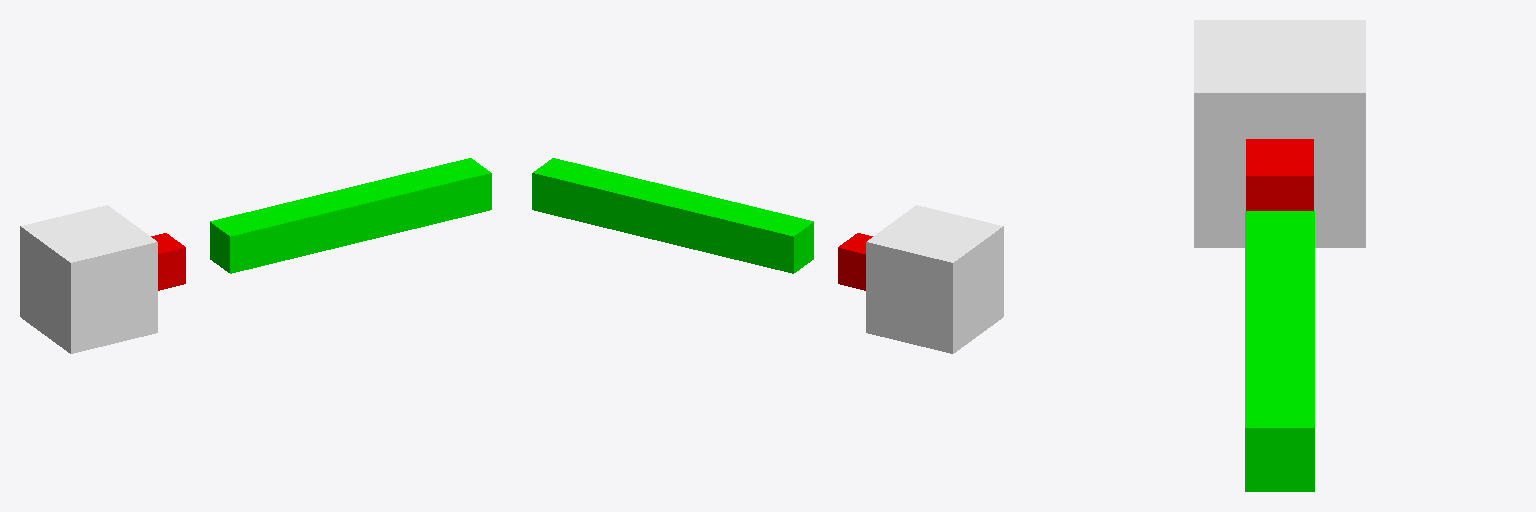
The robot description file, URDF, robot "horizontal_pendulum":
<robot name="horizontal_pendulum">

    <link name="base_link">
        <inertial>
            <origin rpy="0 0 0" xyz="0 0 0"/>
            <mass value="100.0"/>
            <inertia ixx="1" ixy="0" ixz="0" iyy="1" iyz="0" izz="1"/>
        </inertial>
        <visual>
            <origin rpy="0 0 0" xyz="0 0 0"/>
            <geometry>
                <box size="1 1 1"/>
            </geometry>
            <material>
                <color rgba="1 1 1 1"/>
            </material>
        </visual>
        <collision>
            <origin rpy="0 0 0" xyz="0 0 0"/>
            <geometry>
                <box size="1 1 1"/>
            </geometry>
        </collision>
        <spear>
            <simulate_physics value="false"/>
        </spear>
    </link>

    <link name="link_0">
        <inertial>
            <origin rpy="0 0 0" xyz="0 0 0"/>
            <mass value="0.1"/>
            <inertia ixx="1" ixy="0" ixz="0" iyy="1" iyz="0" izz="1"/>
        </inertial>
        <visual>
            <origin rpy="0 0 0" xyz="0.0 0 0"/>
            <geometry>
                <box size="1 0.40 0.40"/>
            </geometry>
            <material>
                <color rgba="1 0 0 1"/>
            </material>
        </visual>
        <collision>
            <origin rpy="0 0 0" xyz="0.0 0 0"/>
            <geometry>
                <box size="1 0.40 0.40"/>
            </geometry>
        </collision>
    </link>
    <joint name="joint_0" type="revolute">
        <origin rpy="0 0 0" xyz="0.5 0 0"/>
        <parent link="base_link"/>
        <child link="link_0"/>
        <axis xyz="1 0 0"/>
        <limit lower="-0.78" upper="0.78" effort="0.0" velocity="0.0"/>
        <spear>
            <dynamics control_type="torque"/>
        </spear>
    </joint>

    <link name="link_1">
        <inertial>
            <origin rpy="0 0 0" xyz="0.5 0 0"/>
            <mass value="0.1"/>
            <inertia ixx="1" ixy="0" ixz="0" iyy="1" iyz="0" izz="1"/>
        </inertial>
        <visual>
            <origin rpy="0 0 0" xyz="0.5 0 0"/>
            <geometry>
                <box size="1 0.41 0.41"/>
            </geometry>
            <material>
                <color rgba="0 1 0 1"/>
            </material>
        </visual>
        <collision>
            <origin rpy="0 0 0" xyz="0.5 0 0"/>
            <geometry>
                <box size="1 0.41 0.41"/>
            </geometry>
        </collision>
    </link>
    <joint name="joint_1" type="fixed">
        <origin rpy="0 0 0" xyz="1 0 0"/>
        <parent link="link_0"/>
        <child link="link_1"/>
        <axis xyz="0 1 0"/>
        <limit lower="-0.78" upper="0.78" effort="0.0" velocity="0.0"/>
        <dynamics damping="0.001"/>
    </joint>

    <link name="link_2">
        <inertial>
            <origin rpy="0 0 0" xyz="0.5 0 0"/>
            <mass value="0.1"/>
            <inertia ixx="1" ixy="0" ixz="0" iyy="1" iyz="0" izz="1"/>
        </inertial>
        <visual>
            <origin rpy="0 0 0" xyz="0.5 0 0"/>
            <geometry>
                <box size="1 0.41 0.41"/>
            </geometry>
            <material>
                <color rgba="0 1 0 1"/>
            </material>
        </visual>
        <collision>
            <origin rpy="0 0 0" xyz="0.5 0 0"/>
            <geometry>
                <box size="1 0.41 0.41"/>
            </geometry>
        </collision>
    </link>
    <joint name="joint_2" type="fixed">
        <origin rpy="0 0 0" xyz="1 0 0"/>
        <parent link="link_1"/>
        <child link="link_2"/>
        <axis xyz="0 1 0"/>
        <limit lower="-0.78" upper="0.78" effort="0.0" velocity="0.0"/>
        <dynamics damping="0.001"/>
    </joint>

    <link name="link_3">
        <inertial>
            <origin rpy="0 0 0" xyz="0.5 0 0"/>
            <mass value="0.1"/>
            <inertia ixx="1" ixy="0" ixz="0" iyy="1" iyz="0" izz="1"/>
        </inertial>
        <visual>
            <origin rpy="0 0 0" xyz="0.5 0 0"/>
            <geometry>
                <box size="1 0.41 0.41"/>
            </geometry>
            <material>
                <color rgba="0 1 0 1"/>
            </material>
        </visual>
        <collision>
            <origin rpy="0 0 0" xyz="0.5 0 0"/>
            <geometry>
                <box size="1 0.41 0.41"/>
            </geometry>
        </collision>
    </link>
    <joint name="joint_3" type="fixed">
        <origin rpy="0 0 0" xyz="1 0 0"/>
        <parent link="link_2"/>
        <child link="link_3"/>
        <axis xyz="0 1 0"/>
        <limit lower="-0.78" upper="0.78" effort="0.0" velocity="0.0"/>
        <dynamics damping="0.001"/>
    </joint>

</robot>

--- Facts derived from the render (not from the file) ---
3 views of the same robot in one strip: view 1: azimuth 30°, elevation 25°; view 2: azimuth 150°, elevation 25°; view 3: azimuth 270°, elevation 25° (orthographic).
Robot: horizontal_pendulum — 5 links, 4 joints (1 revolute, 3 fixed); root link base_link; default pose: every joint at zero.
Visible links, largest first — view 1: base_link, link_1, link_3, link_2, link_0; view 2: base_link, link_1, link_3, link_2, link_0; view 3: base_link, link_3, link_2, link_1, link_0.
Link boxes in pixels (x1=…): base_link: x1=20, y1=205, x2=157, y2=353; link_1: x1=210, y1=200, x2=316, y2=273; link_3: x1=384, y1=158, x2=491, y2=230; link_2: x1=297, y1=179, x2=403, y2=252; link_0: x1=151, y1=233, x2=185, y2=290; base_link: x1=866, y1=205, x2=1003, y2=353; link_1: x1=707, y1=200, x2=813, y2=273; link_3: x1=532, y1=158, x2=639, y2=230; link_2: x1=620, y1=179, x2=726, y2=252; link_0: x1=838, y1=233, x2=872, y2=290; base_link: x1=1194, y1=20, x2=1365, y2=247; link_3: x1=1245, y1=356, x2=1314, y2=491; link_2: x1=1245, y1=283, x2=1314, y2=355; link_1: x1=1245, y1=211, x2=1314, y2=282; link_0: x1=1246, y1=139, x2=1313, y2=210.
Bounding box of the posed robot: 5 × 1 × 1 m (x, y, z).
Geometry: primitives only (box / cylinder / sphere), no mesh files.